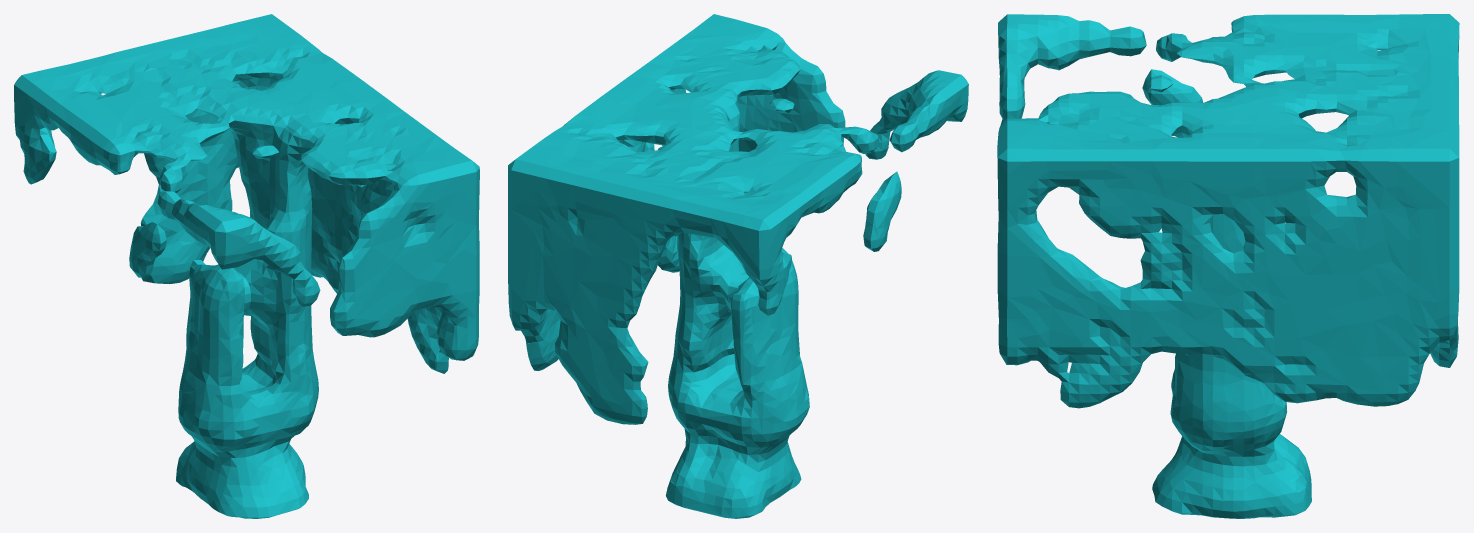
The picture shows the model from 3 angles, left to right: view 1: azimuth 30°, elevation 25°; view 2: azimuth 150°, elevation 25°; view 3: azimuth 270°, elevation 25°; orthographic projection. The views are drawn at different scales.
Visible parts, largest first — view 1: Liquid_Domain; view 2: Liquid_Domain; view 3: Liquid_Domain.
Part boxes in pixels (bbox=[...]): Liquid_Domain: bbox=[14, 14, 479, 518]; Liquid_Domain: bbox=[508, 14, 968, 518]; Liquid_Domain: bbox=[997, 14, 1459, 518].
Size of the model in its own units: 79.1 by 108 by 108.
